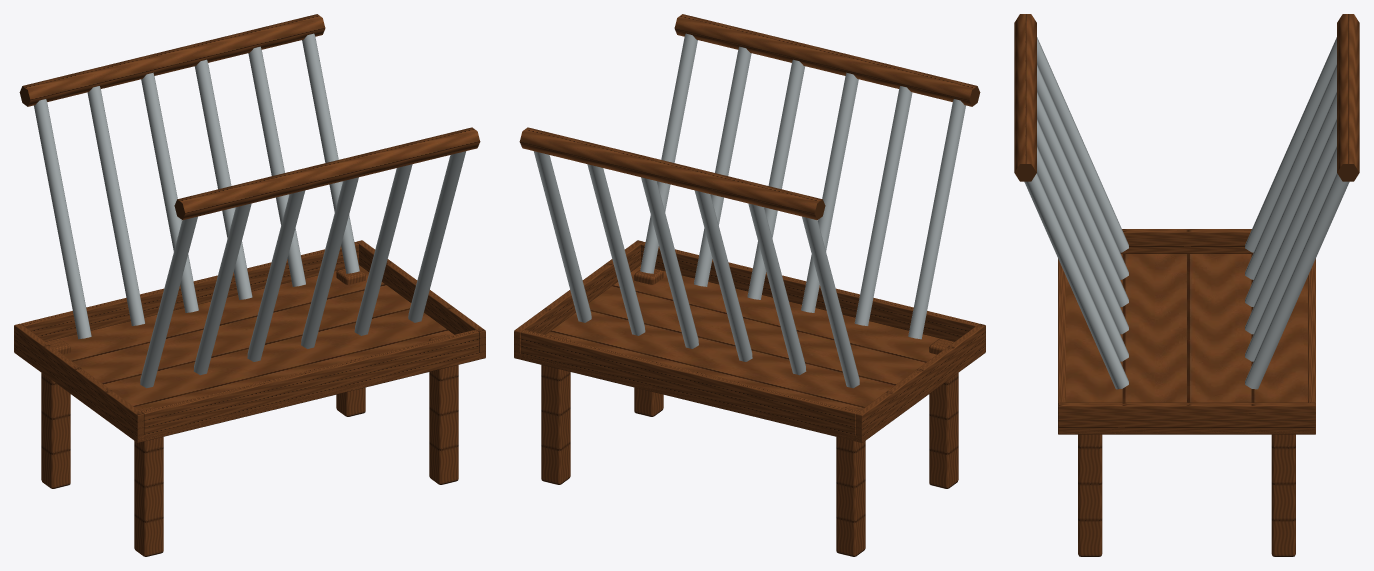
File: creature-husbandry-and-transport-hay-feeding-rack-c2f303b0__23993.glb
The picture shows the model from 3 angles, left to right: view 1: azimuth 30°, elevation 25°; view 2: azimuth 150°, elevation 25°; view 3: azimuth 270°, elevation 25°; orthographic projection. The views are drawn at different scales.
Parts seen in each view (by area): view 1: hay-feeding-rack; view 2: hay-feeding-rack; view 3: hay-feeding-rack.
Boxes of the visible parts, box(x1,y1,x2,y2) form: hay-feeding-rack: box(14, 14, 485, 556); hay-feeding-rack: box(514, 14, 985, 556); hay-feeding-rack: box(1014, 14, 1359, 556).
Size of the model in its own units: 1.3 by 1.33 by 1.07.
Materials: 2 (1 with a texture image).
